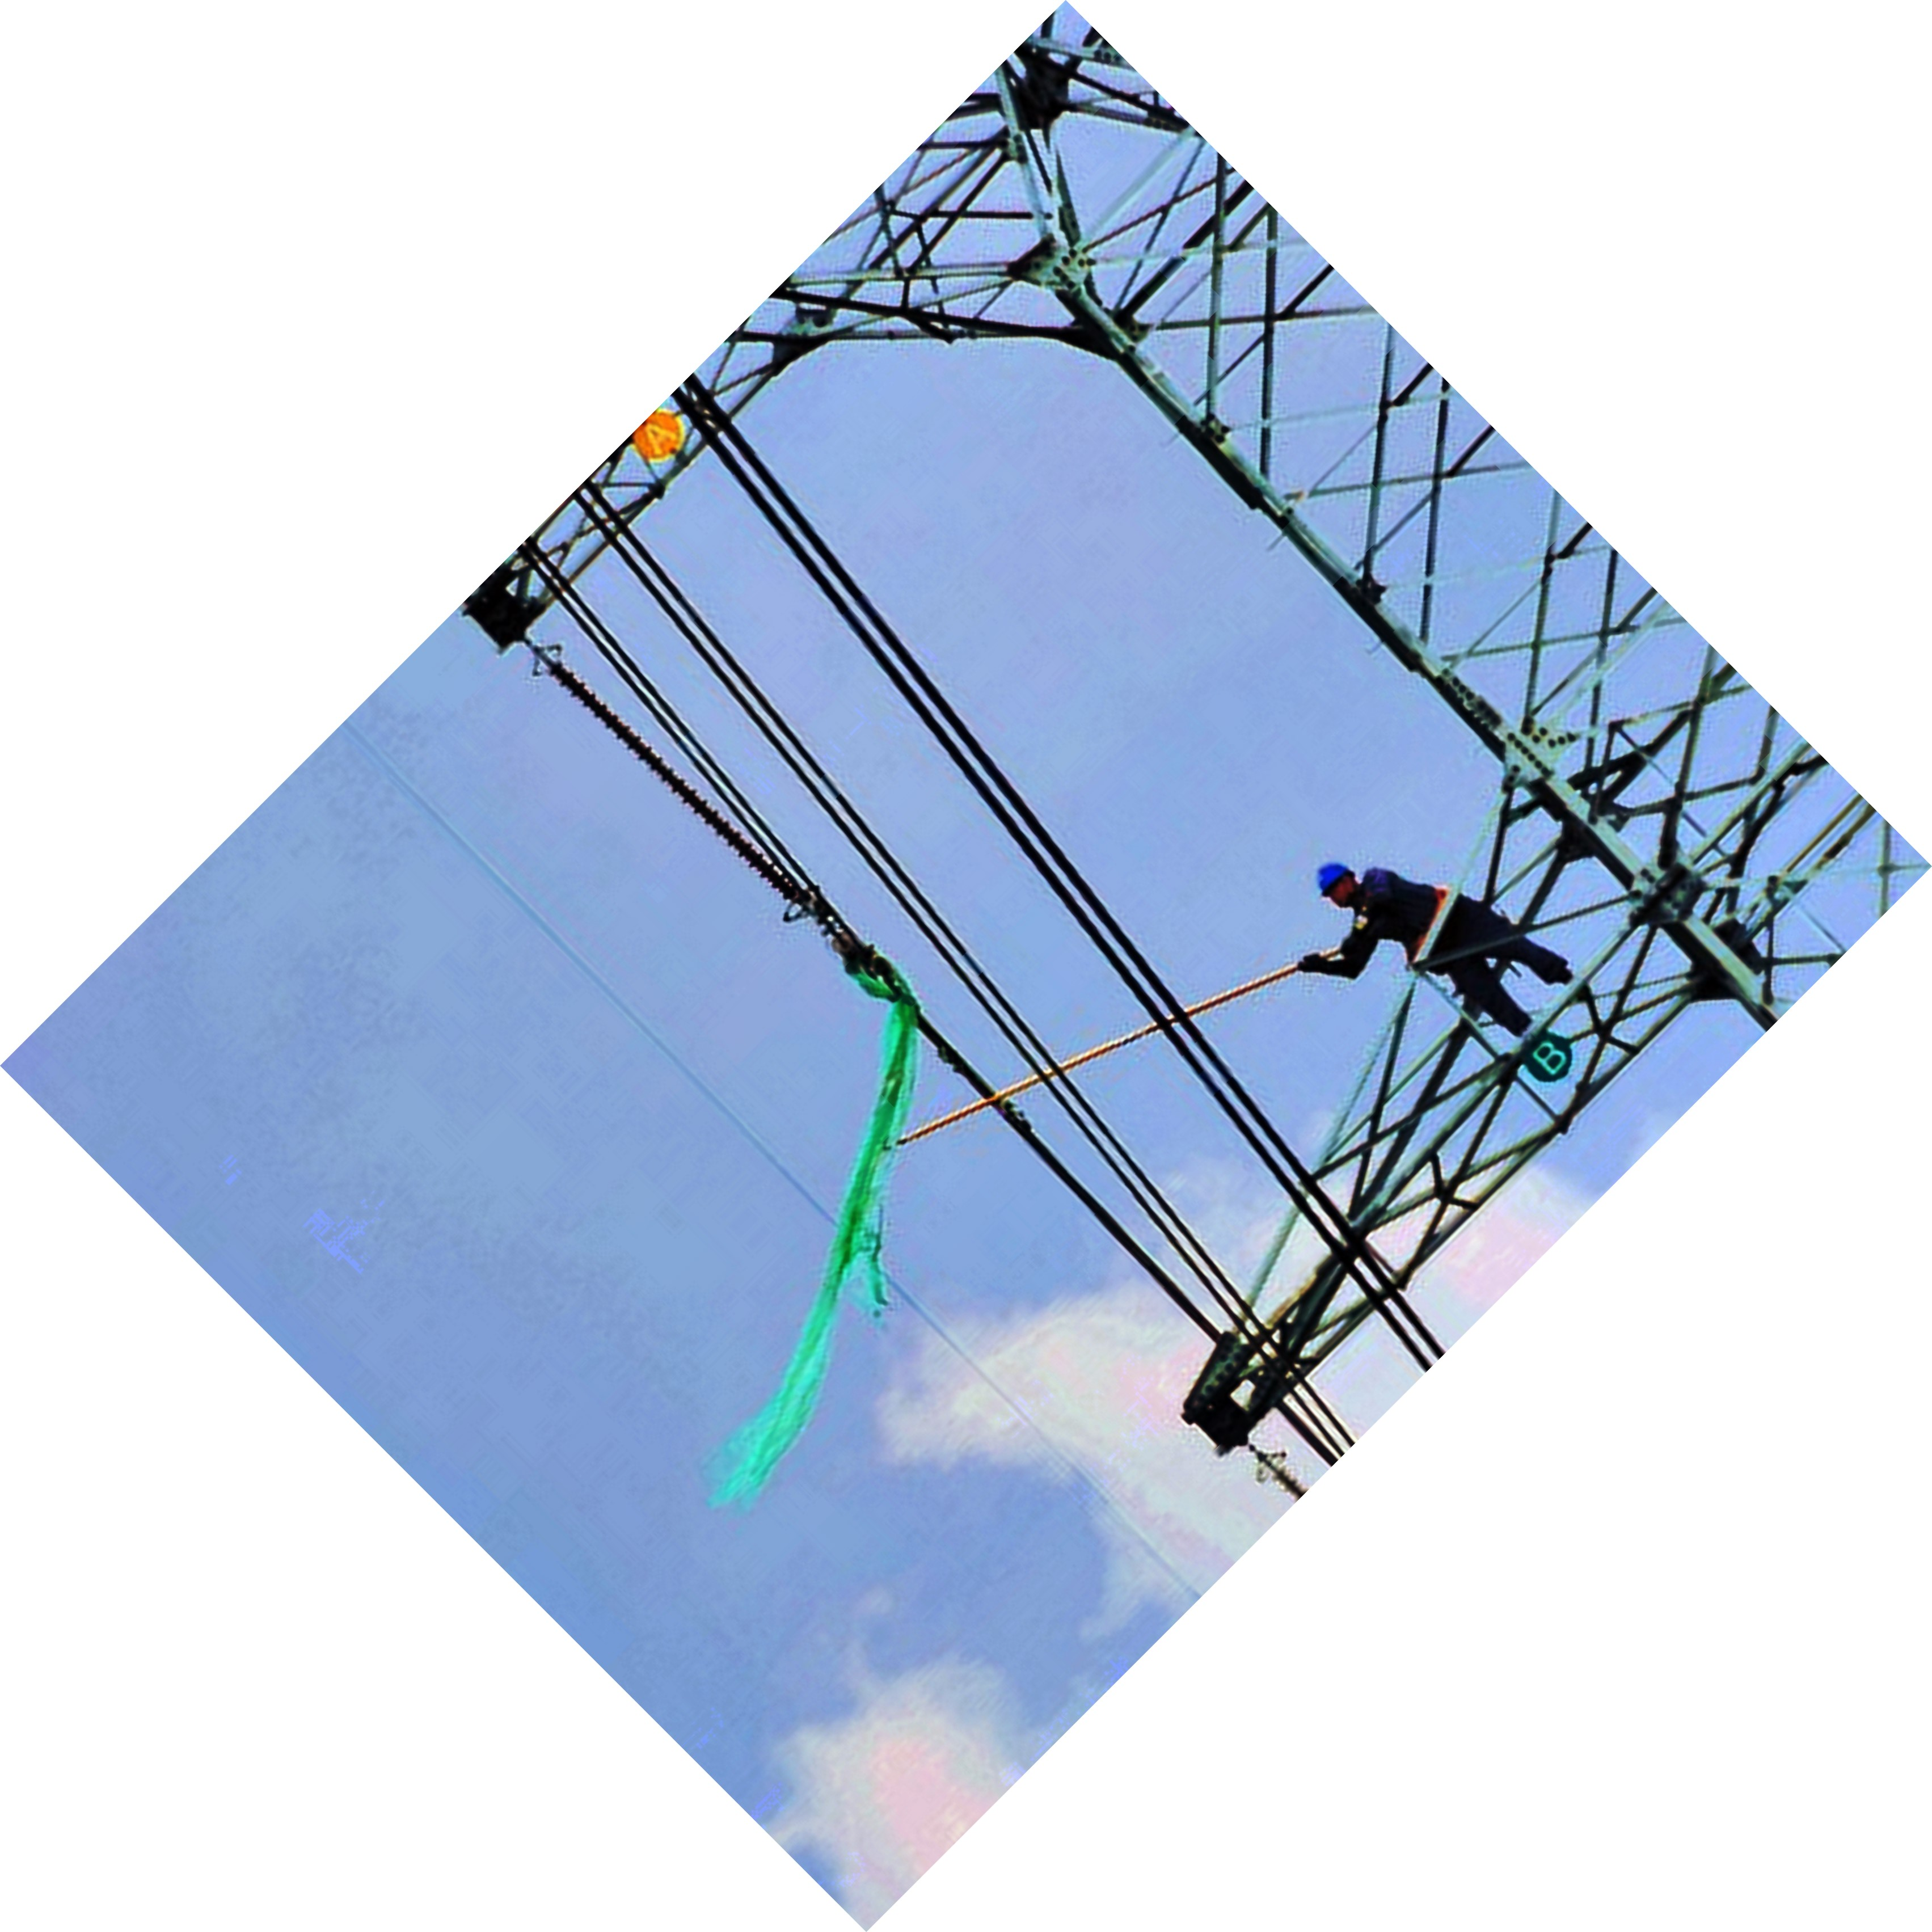wire foreign body: (694, 927, 957, 1527)
